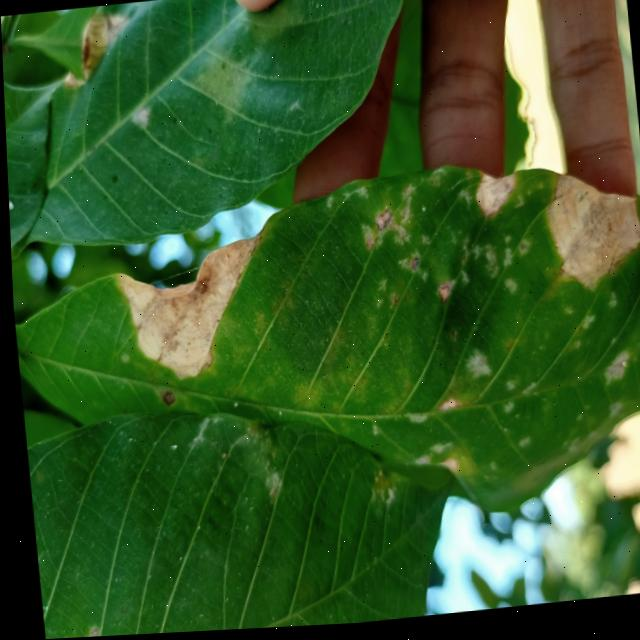Colletotrichum: (157, 392, 172, 409)
Leaf-Blight: (111, 234, 271, 387), (538, 172, 640, 299), (54, 10, 136, 91), (470, 172, 518, 223)
